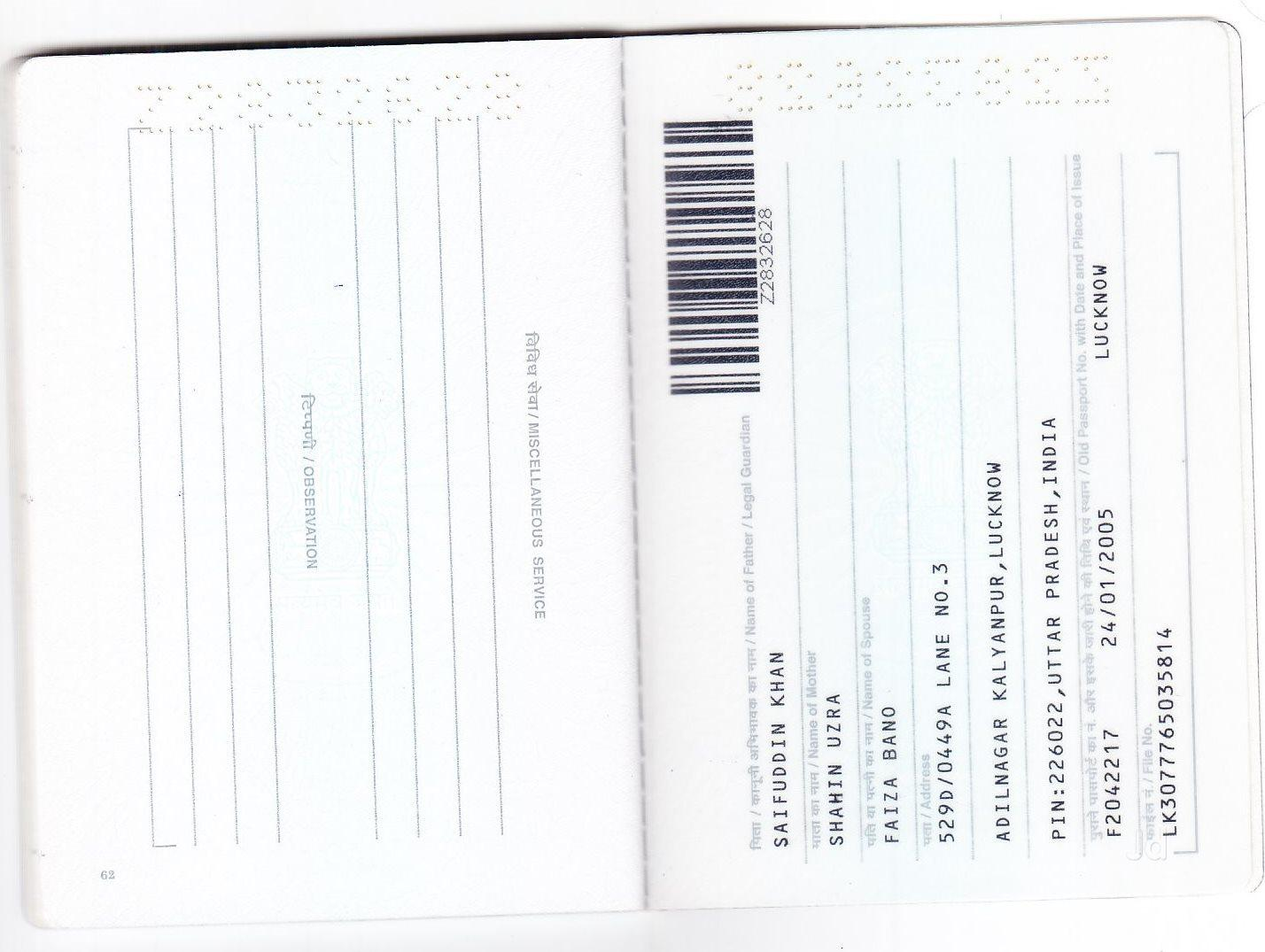File_no: (1144, 621, 1188, 845)
address: (925, 376, 1081, 870)
father_name: (764, 627, 802, 855)
mother_name: (819, 684, 860, 868)
old_passport_details: (1083, 253, 1140, 847)
passport_no: (749, 198, 786, 312)
spouse_name: (870, 691, 916, 872)
